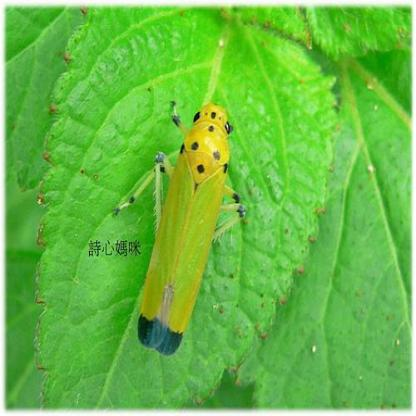Green-Leafhopper: (111, 92, 253, 358)
